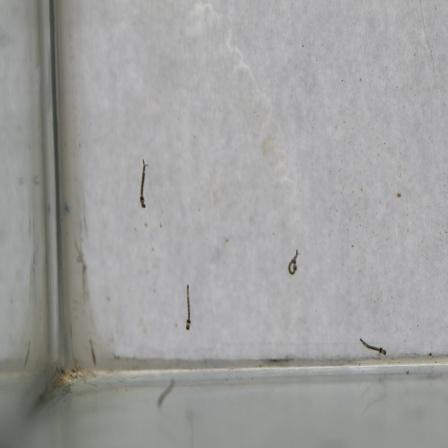Jentik-Nyamuk: (135, 154, 150, 214), (355, 333, 388, 358), (182, 279, 196, 334), (284, 245, 302, 279)
